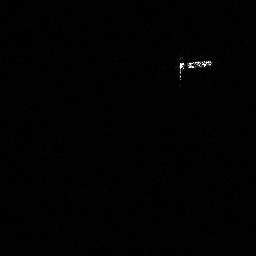ship: (175, 55, 215, 82)
